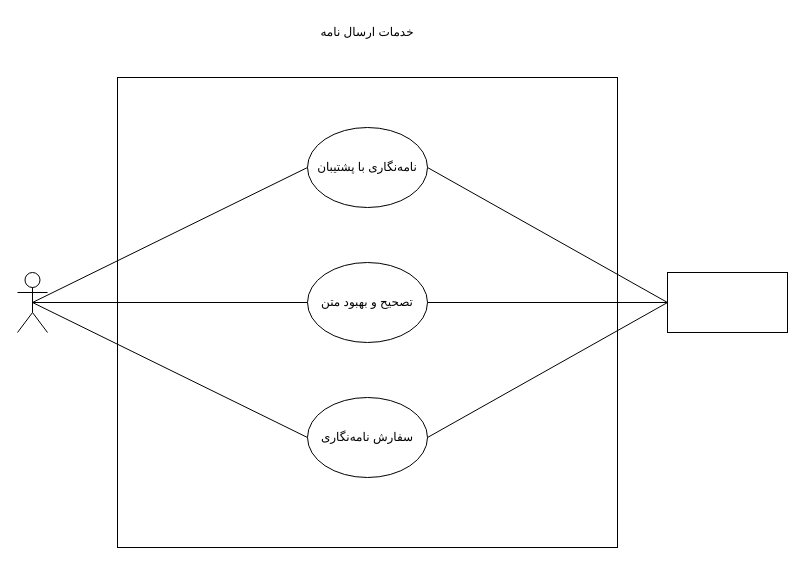
Some shapes in this 805 by 565 pixel diagram are drawn without their labels. The shapes that lost their labels are listed below. From the top down, each one's centre as x and y in pixels, then its label:
At pixel 32 302: "کاربر".
At pixel 727 302: "موتور هوش‌مصنوعی".
